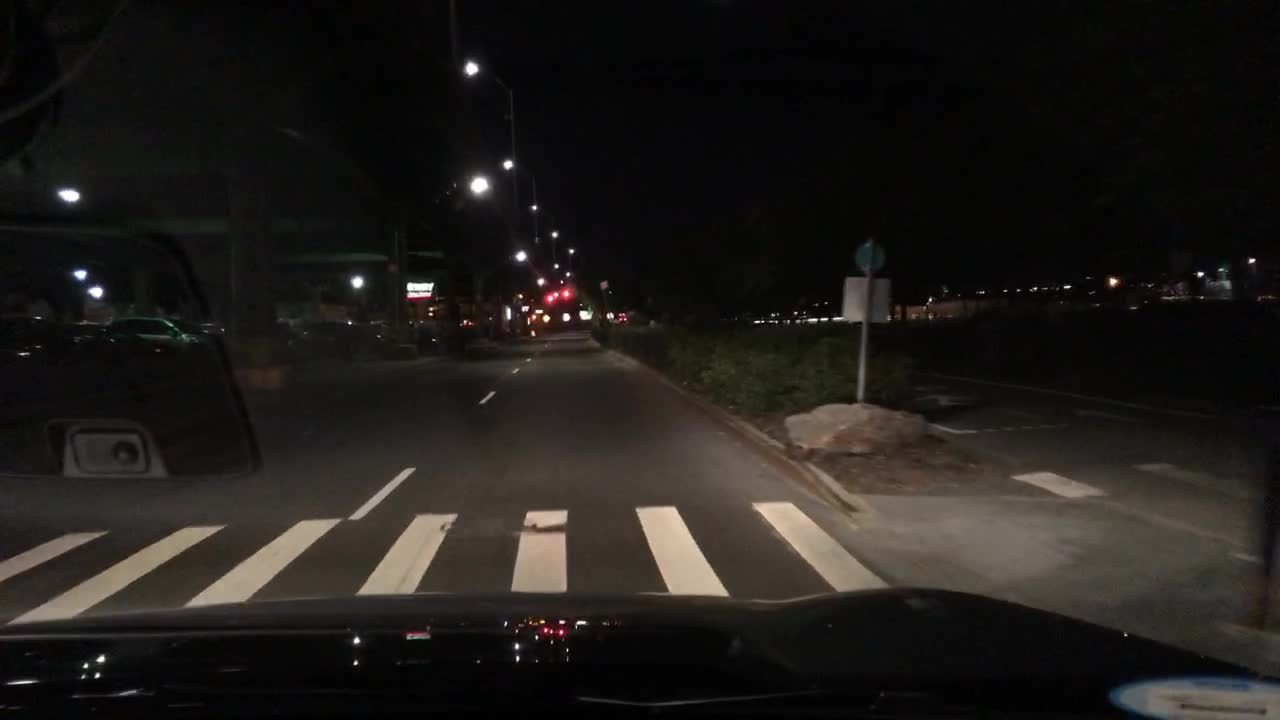car: (0, 307, 69, 352), (106, 318, 202, 346), (921, 293, 981, 321), (67, 313, 108, 348), (195, 321, 225, 336)
traffic light: (544, 294, 556, 304), (562, 286, 570, 298)
traffic sign: (845, 276, 891, 323), (858, 242, 883, 272), (578, 308, 593, 318), (506, 305, 513, 321), (562, 310, 570, 323), (542, 313, 551, 323), (600, 279, 608, 289), (534, 308, 544, 315)
